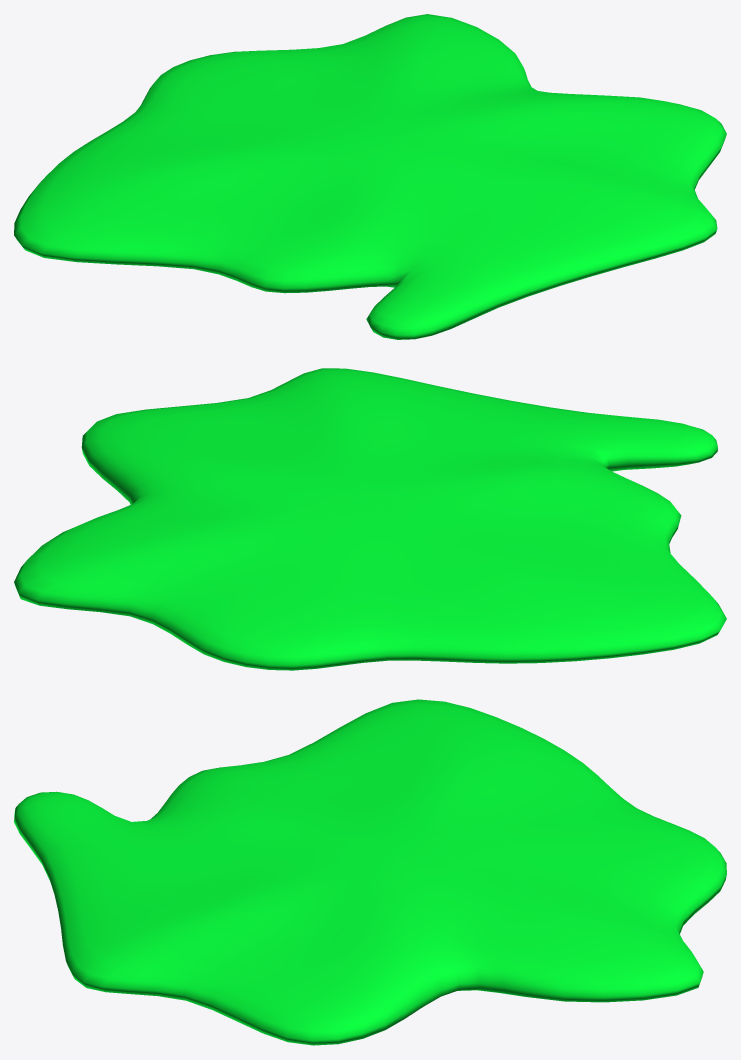
The model's file is dirt-spot.fbx.
The picture shows the model from 3 angles, top to bottom: view 1: azimuth 30°, elevation 25°; view 2: azimuth 150°, elevation 25°; view 3: azimuth 270°, elevation 25°; orthographic projection. The views are drawn at different scales.
Parts seen in each view (by area): view 1: pCylinder1; view 2: pCylinder1; view 3: pCylinder1.
Part boxes in pixels (x1,y1,x2,y2): pCylinder1: [14, 14, 726, 339]; pCylinder1: [14, 368, 726, 670]; pCylinder1: [14, 699, 726, 1045].
Size of the model in its own units: 22.78 by 1.53 by 20.31.
